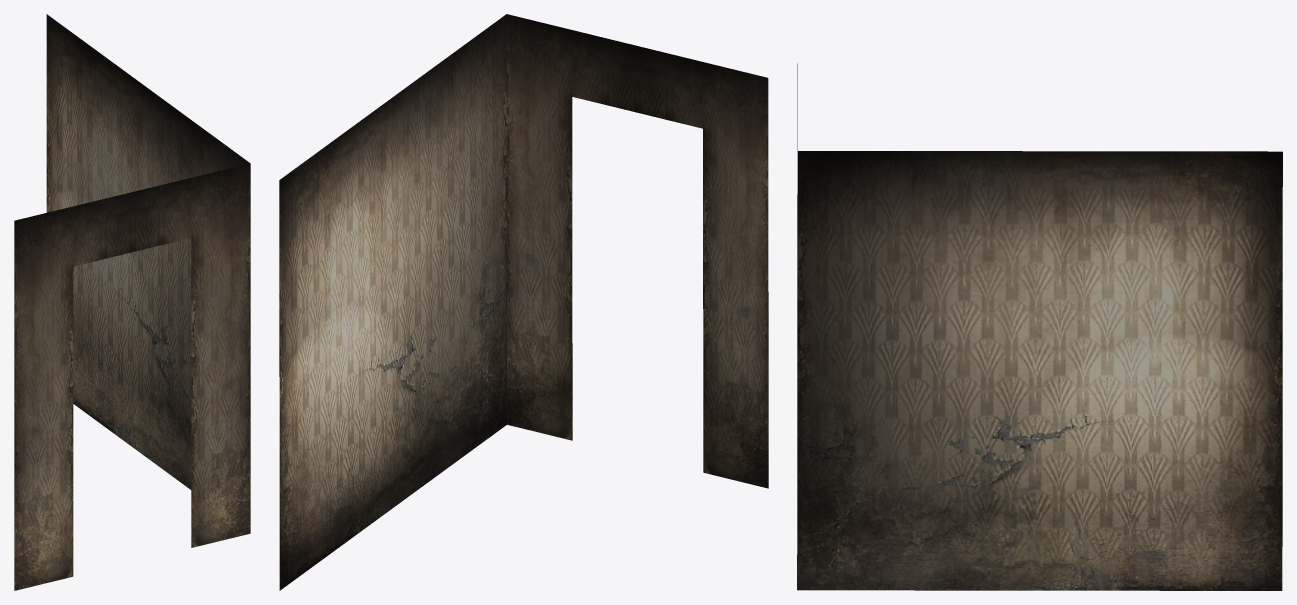
Rendered from Room8.obj.
3 renders of one model, left to right at view 1: azimuth 30°, elevation 25°; view 2: azimuth 150°, elevation 25°; view 3: azimuth 270°, elevation 25°, orthographic. The views are drawn at different scales.
Visible parts, largest first — view 1: Room8; view 2: Room8; view 3: Room8.
Boxes of the visible parts, <box> form: Room8: <box>14,14,250,590</box>; Room8: <box>279,14,768,590</box>; Room8: <box>797,63,1282,590</box>.
Bounding box in the file's own units: 16.92 × 25.33 × 25.33.
